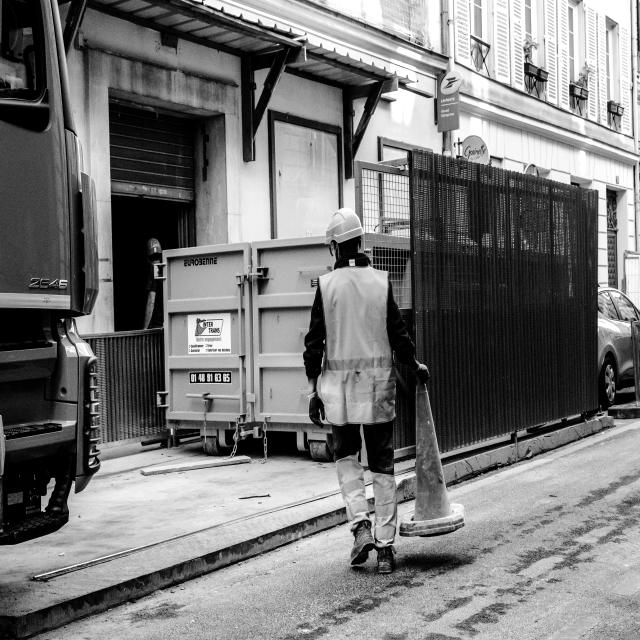Boots: (349, 524, 376, 568), (379, 548, 396, 574)
Vest: (320, 266, 400, 426)
